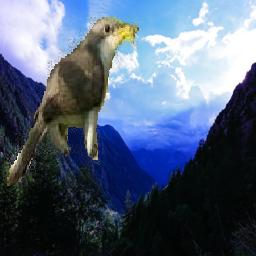Cuckoo: (7, 18, 139, 187)
